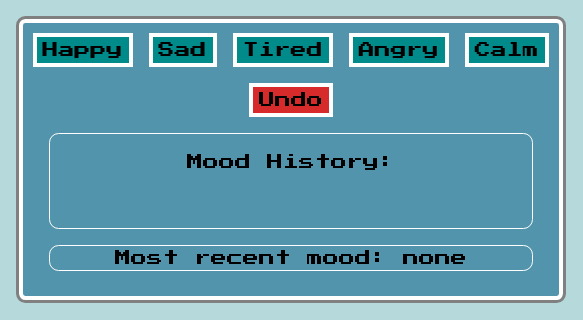
it: MoodTracker - mood buttons › updates mood to Sad clicked
Click the button "Sad". click: (183, 50)
box: [149, 33, 217, 67]
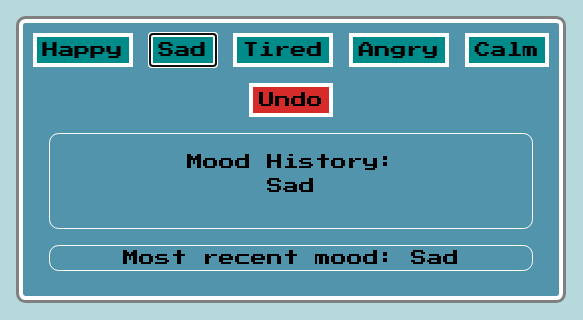
Now the text "Most recent mood: Sad" is shown, box [123, 250, 459, 266]
